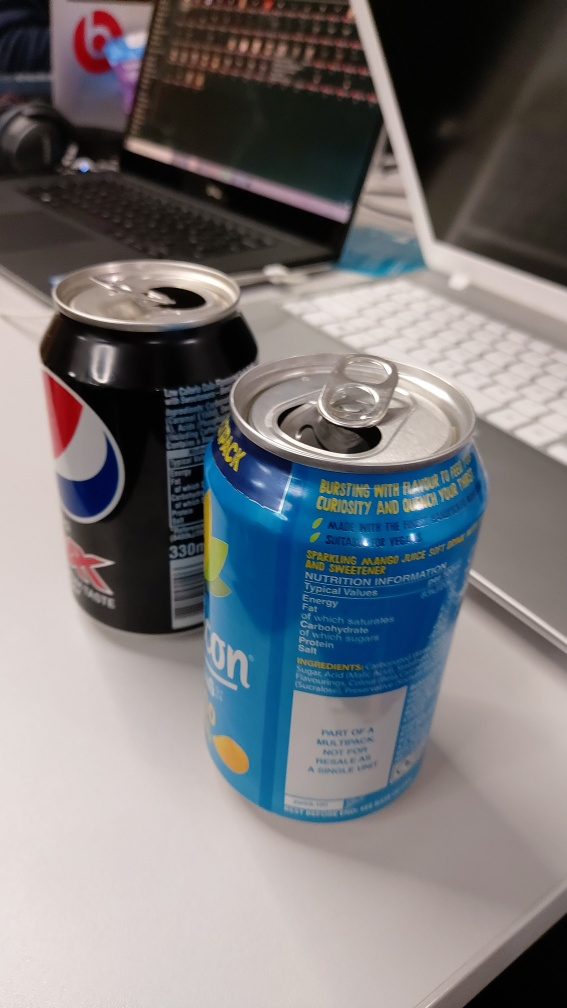can_blue: (173, 328, 499, 881)
